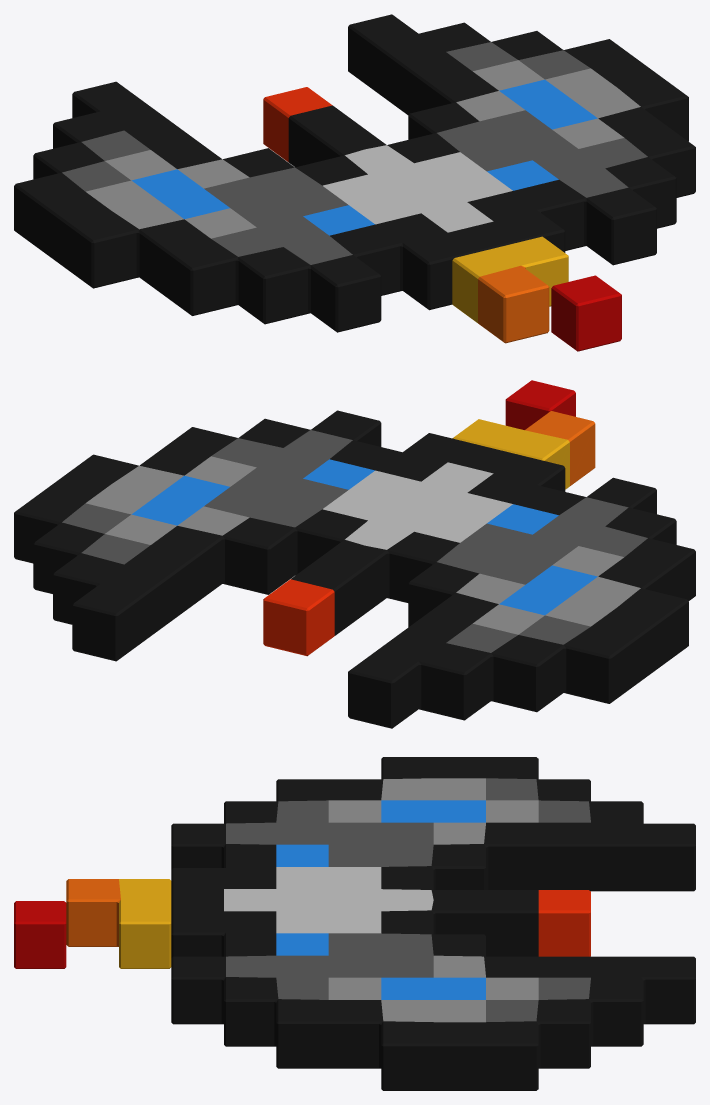
File: Nave2.fbx
3 renders of one model, top to bottom at view 1: azimuth 30°, elevation 25°; view 2: azimuth 150°, elevation 25°; view 3: azimuth 270°, elevation 25°, orthographic.
Visible parts, largest first — view 1: Plane.014; view 2: Plane.014; view 3: Plane.014.
Boxes of the visible parts, bbox=[...] form: Plane.014: bbox=[14, 14, 695, 351]; Plane.014: bbox=[14, 380, 695, 728]; Plane.014: bbox=[14, 757, 695, 1090].
Bounding box in the file's own units: 1300 × 100 × 1300.
